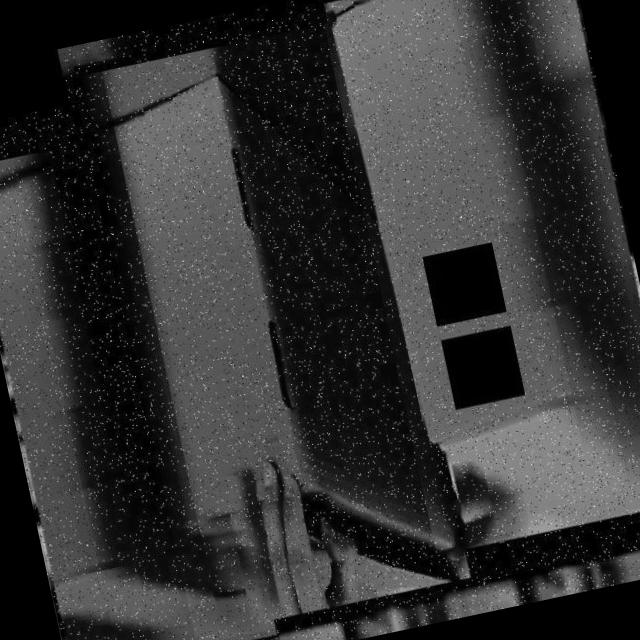box: (73, 6, 476, 640), (317, 0, 640, 563), (0, 114, 281, 640)
